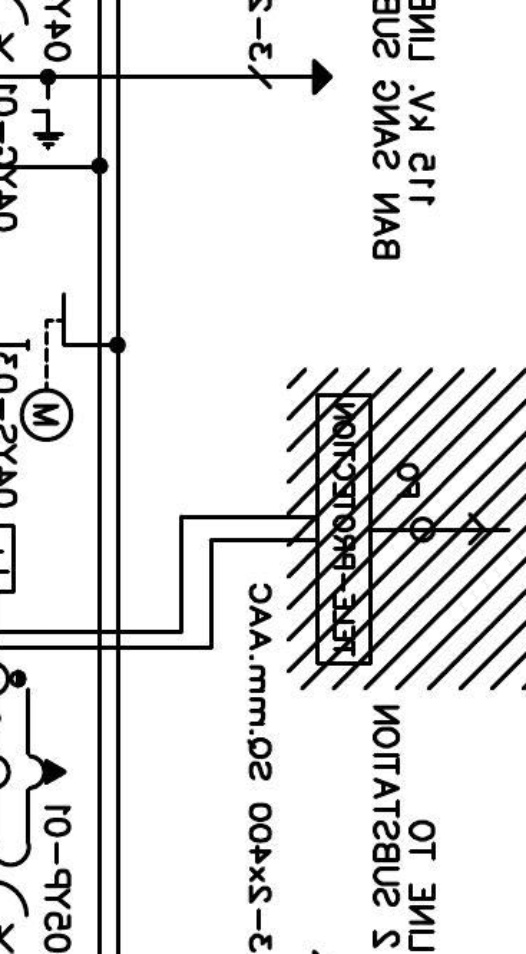115_1way_ds_w_motor: (17, 291, 73, 445)
115_gs: (30, 94, 66, 153)
tele_protection: (315, 392, 373, 665)
